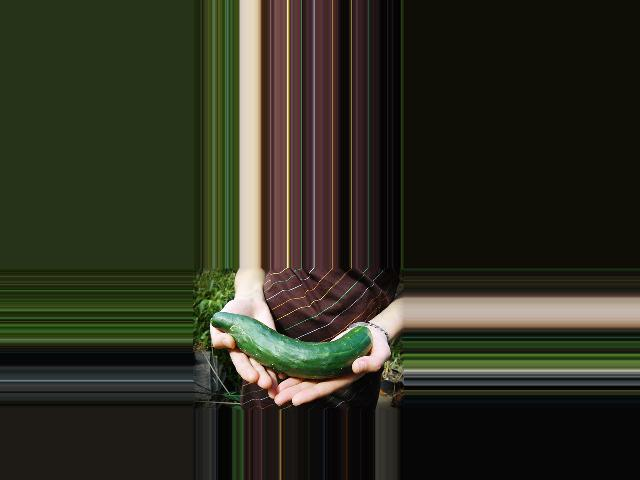cucumber: (211, 312, 373, 379)
